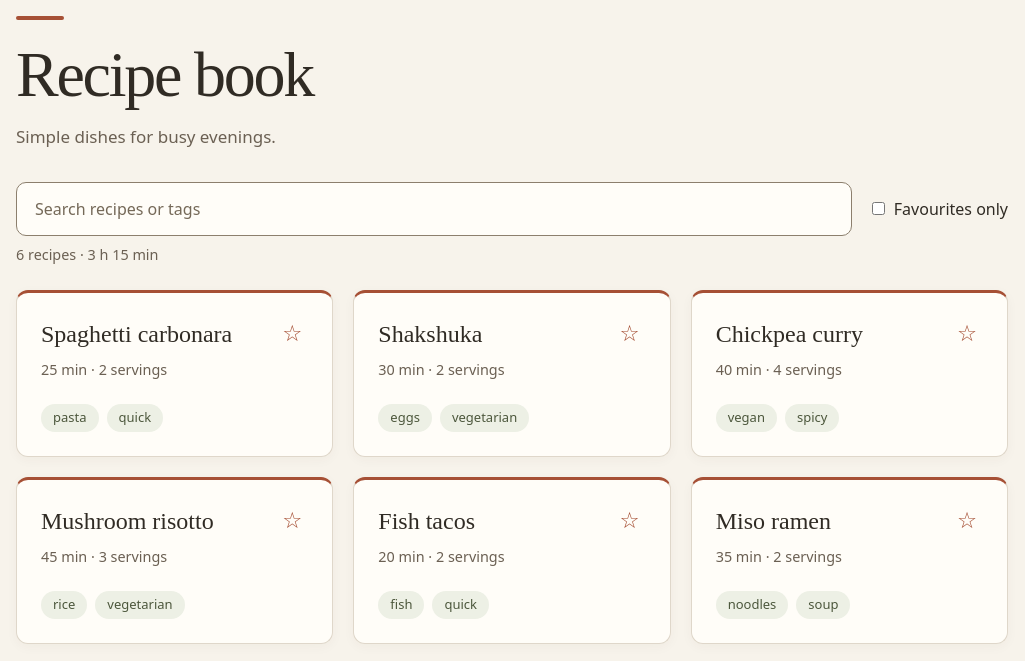
Test: App › says so when nothing matches
The image size is (1025, 661).
Type "pizza" into the search field labelled "Search recipes". click: (434, 209)
box: [16,182,852,236]
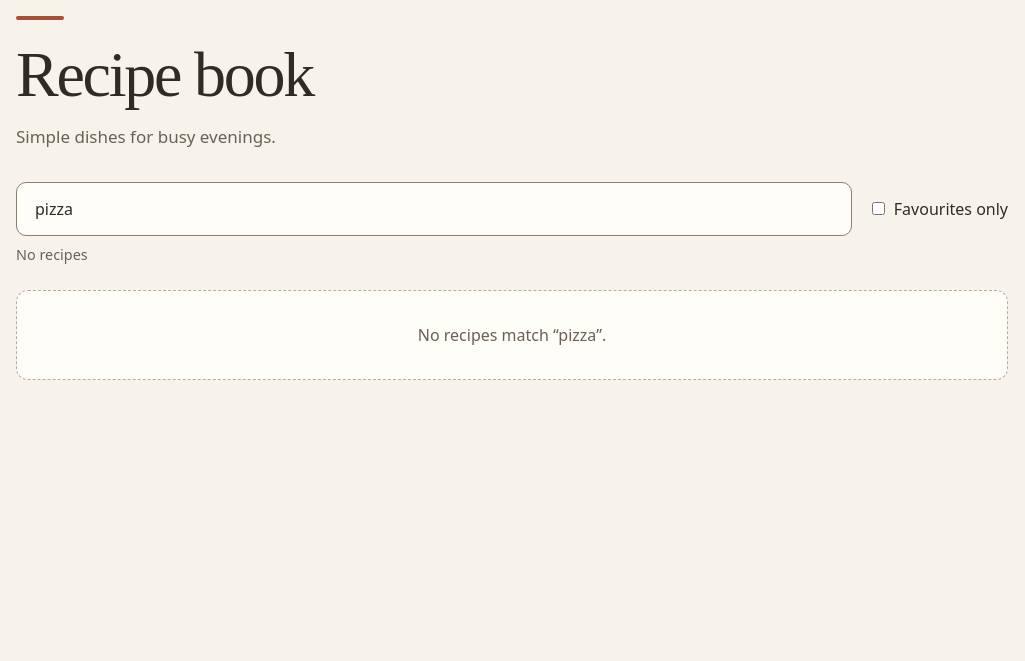
Result: the text "No recipes match “pizza”." is shown at [16,290,1008,380]
